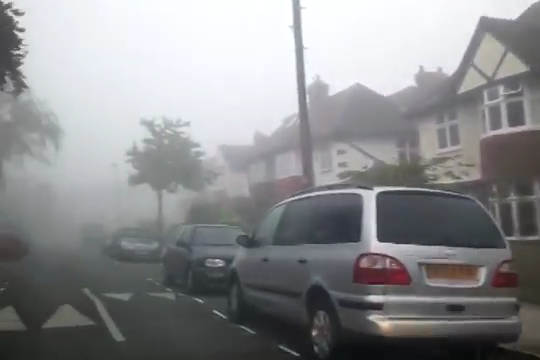car: (222, 183, 526, 360), (159, 222, 254, 296), (104, 228, 162, 264)
